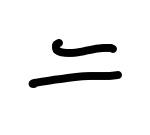eqv: (26, 37, 123, 90)
